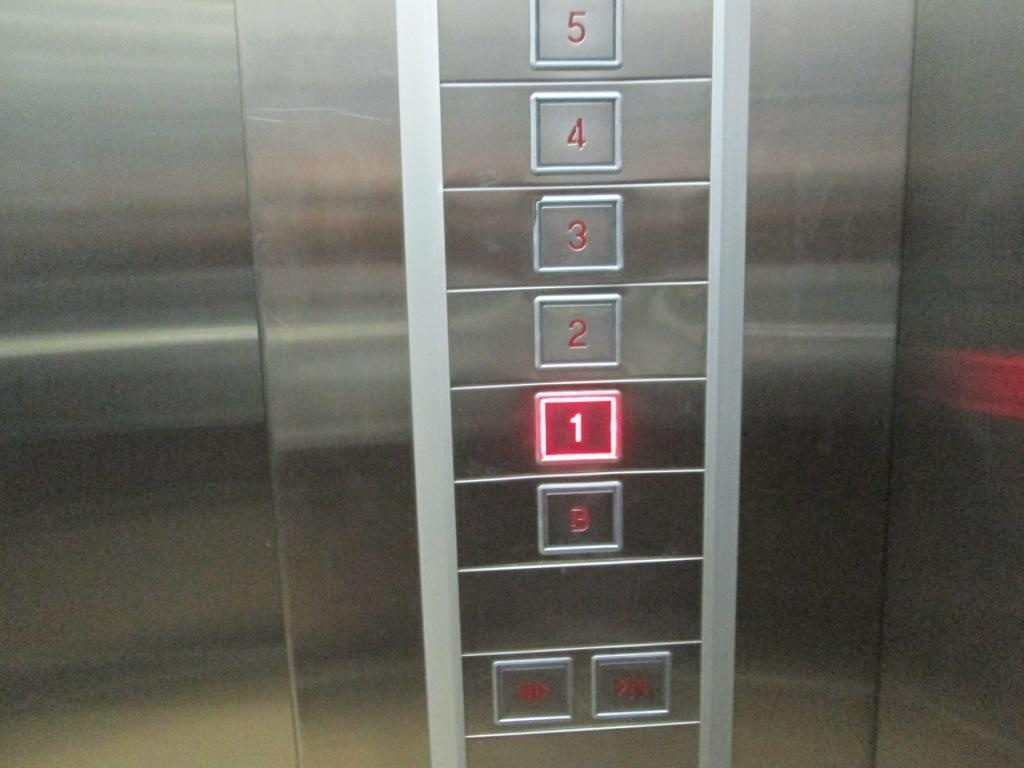1: (533, 386, 623, 464)
2: (531, 289, 624, 372)
3: (529, 191, 625, 274)
4: (528, 88, 622, 173)
5: (524, 1, 625, 70)
B: (534, 478, 626, 556)
close: (590, 654, 670, 717)
open: (490, 656, 575, 727)
